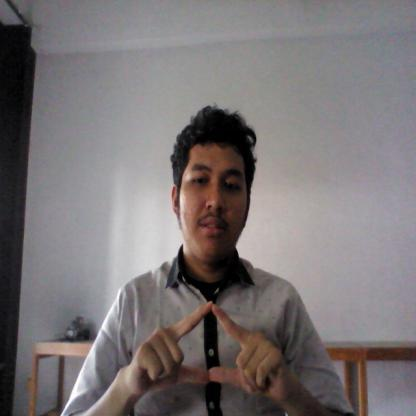A: (126, 298, 288, 399)
